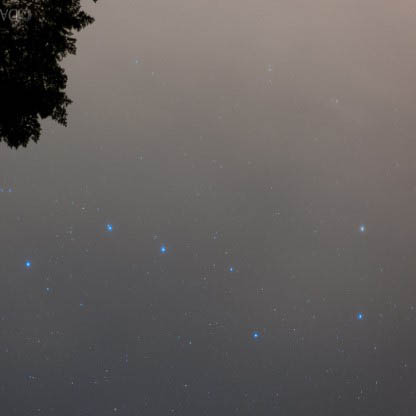Ursa Major: (94, 211, 118, 235), (18, 249, 40, 275), (350, 214, 374, 237), (154, 240, 178, 262), (240, 324, 265, 345), (346, 307, 371, 326), (223, 259, 241, 279)
